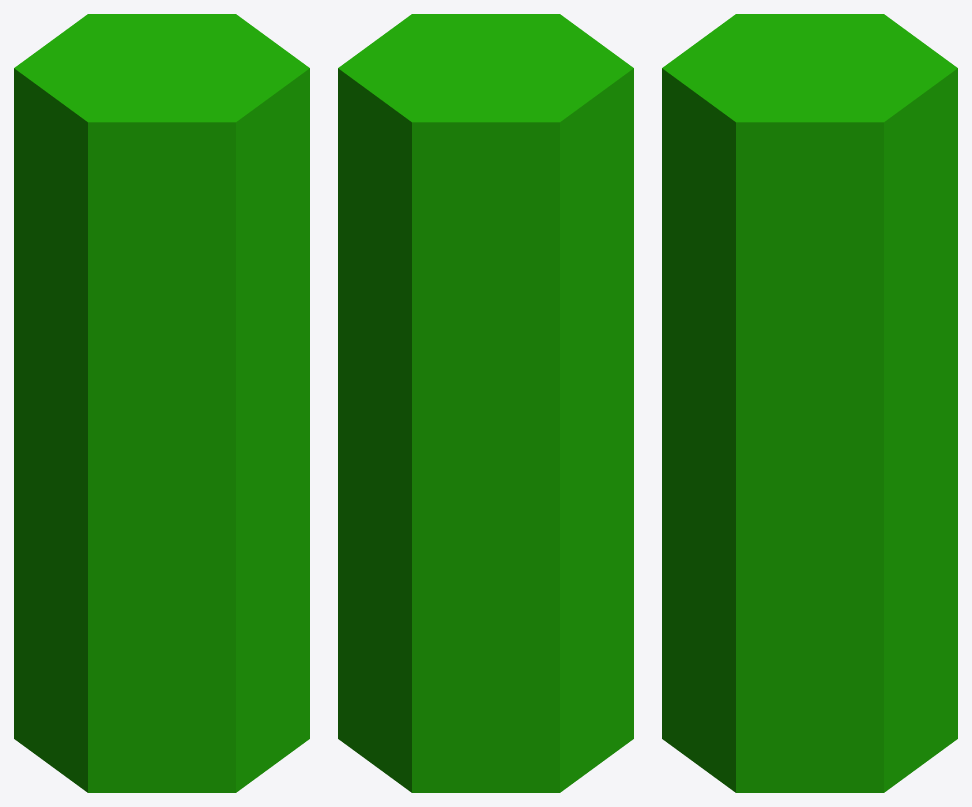
3 views of the same model, side by side, from view 1: azimuth 30°, elevation 25°; view 2: azimuth 150°, elevation 25°; view 3: azimuth 270°, elevation 25° (orthographic).
Parts seen in each view (by area): view 1: 草原; view 2: 草原; view 3: 草原.
Part boxes in pixels (<box>): 草原: <box>14,14,309,792</box>; 草原: <box>338,14,633,792</box>; 草原: <box>662,14,957,792</box>.
Size of the model in its own units: 400 by 346 by 1000.
